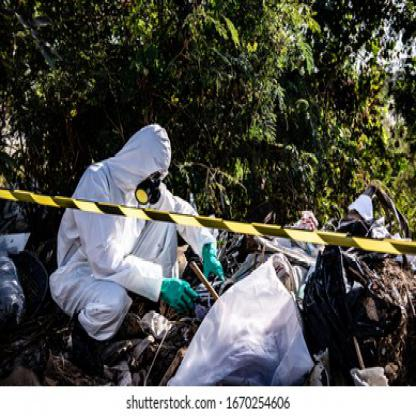with_gloves: (160, 275, 198, 315), (201, 241, 225, 279)
